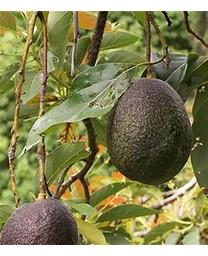avocado: (106, 77, 195, 184), (0, 198, 80, 244)
